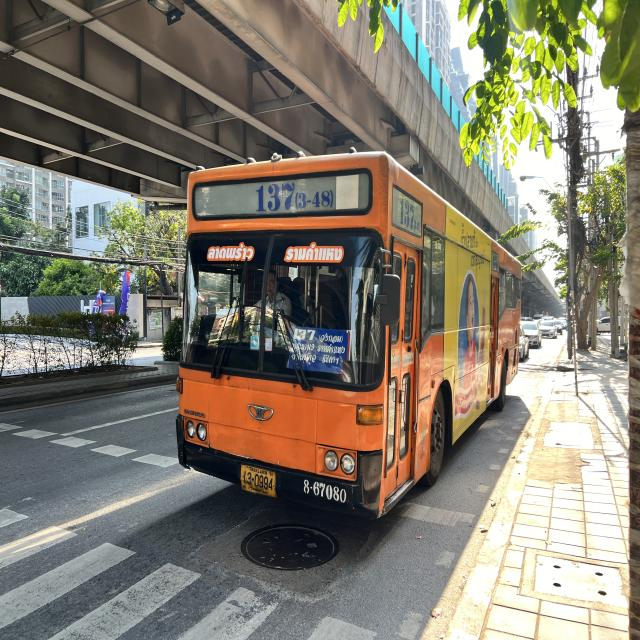BMTA-bus: (175, 151, 525, 520)
Bus-Line-Number: (252, 176, 336, 214)
Destination-Sign-Normal: (286, 326, 348, 379)
